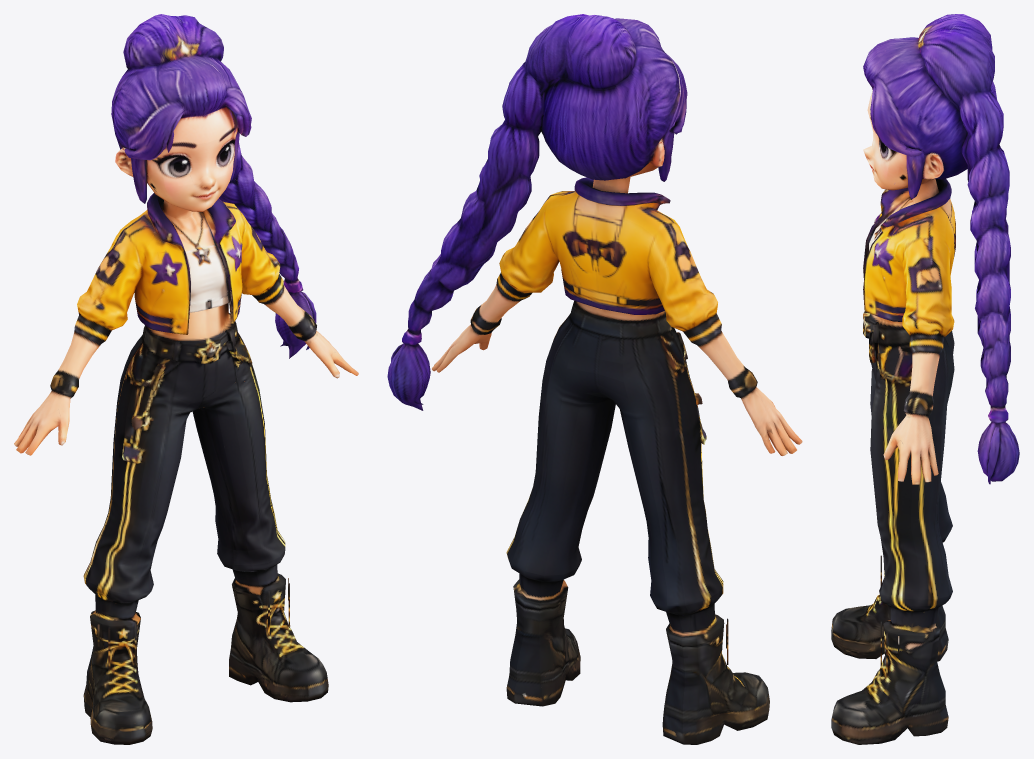
File: rumi.fbx
3 renders of one model, left to right at view 1: azimuth 30°, elevation 25°; view 2: azimuth 150°, elevation 25°; view 3: azimuth 270°, elevation 25°, orthographic. The views are drawn at different scales.
Visible parts, largest first — view 1: model; view 2: model; view 3: model.
Boxes of the visible parts, box(x1,y1,x2,y2) form: model: box(14, 14, 358, 744); model: box(387, 14, 802, 744); model: box(831, 14, 1019, 744).
Bounding box in the file's own units: 101 × 190 × 48.34.
